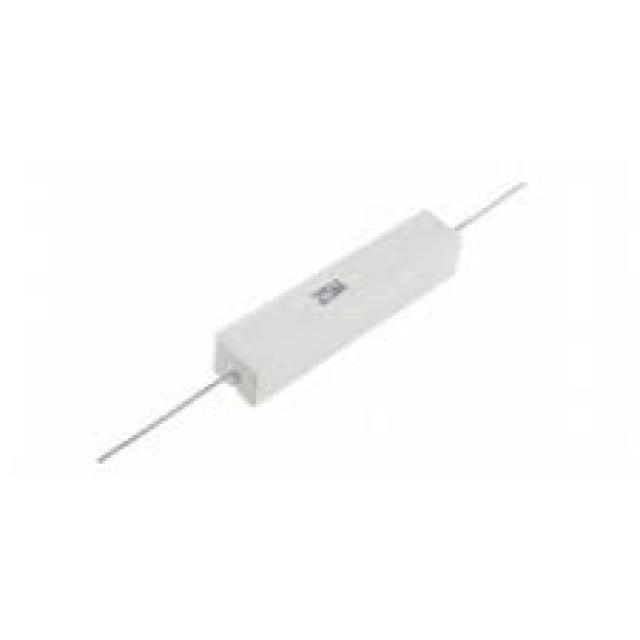Resistor: (213, 207, 459, 406)
